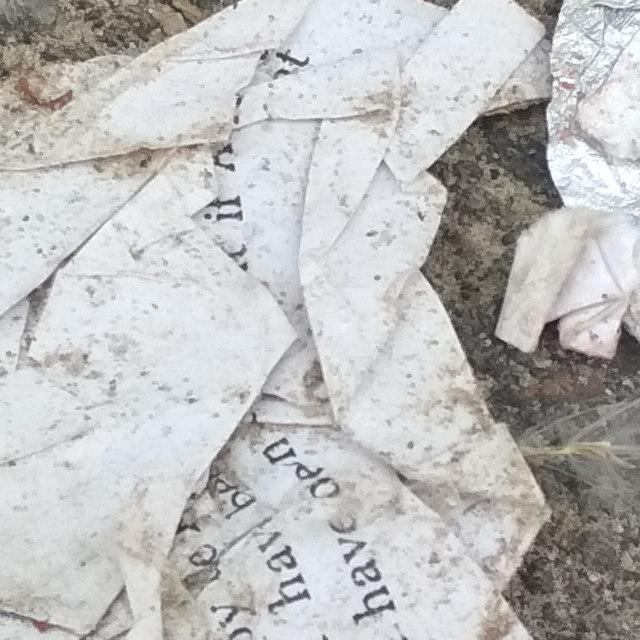paper: (0, 0, 640, 640), (484, 0, 640, 640)
